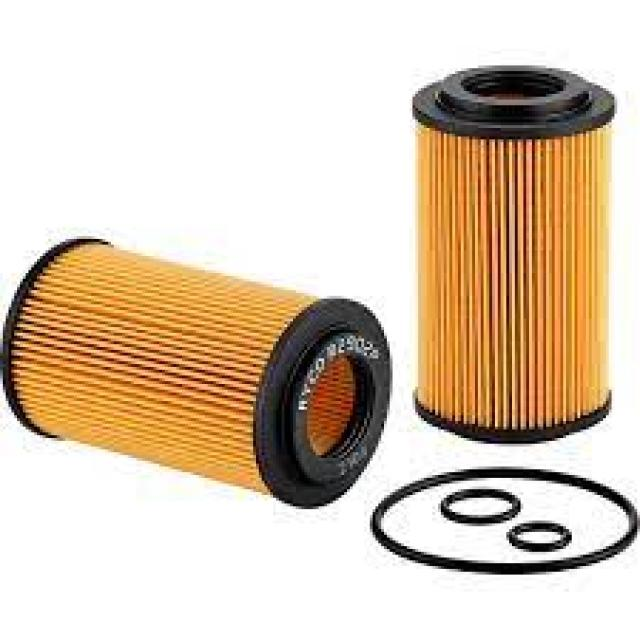oil_filter: (0, 228, 397, 510), (410, 54, 624, 448)
